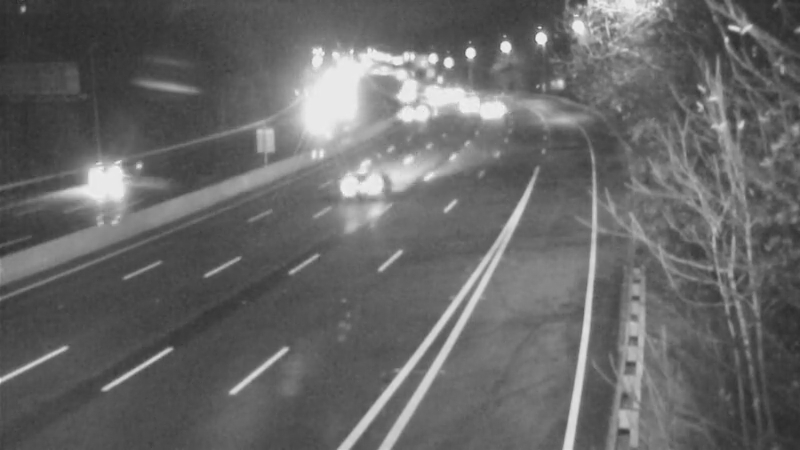vehicle: (331, 151, 411, 231), (68, 146, 148, 226), (438, 80, 488, 130), (462, 85, 512, 135), (388, 90, 438, 140)
